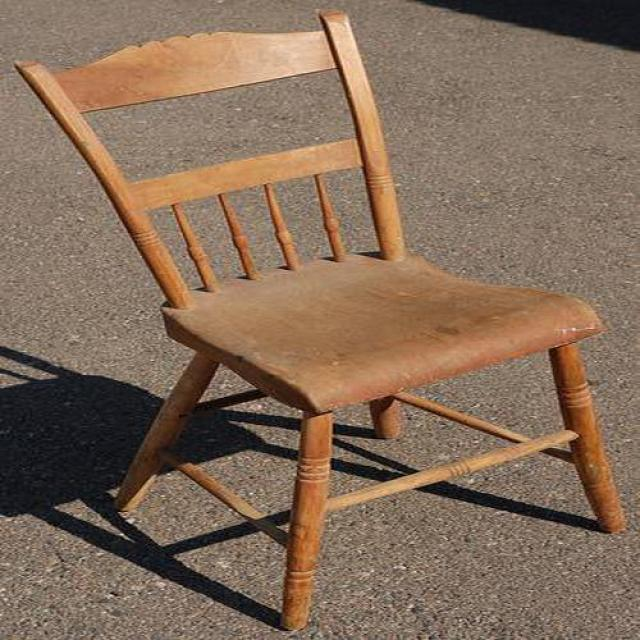chair: (14, 10, 627, 634)
